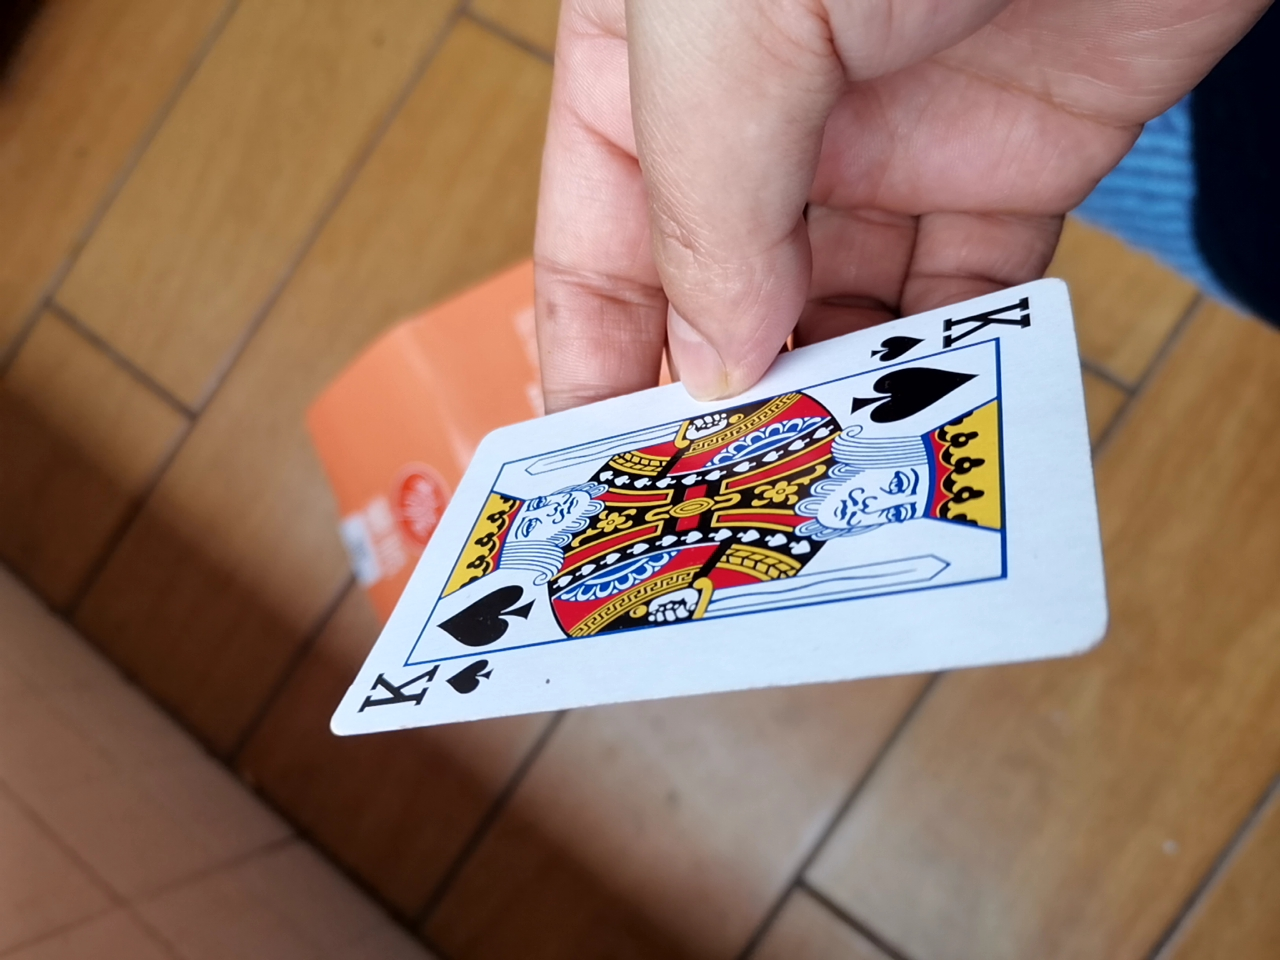ht k: (314, 284, 1112, 750)
